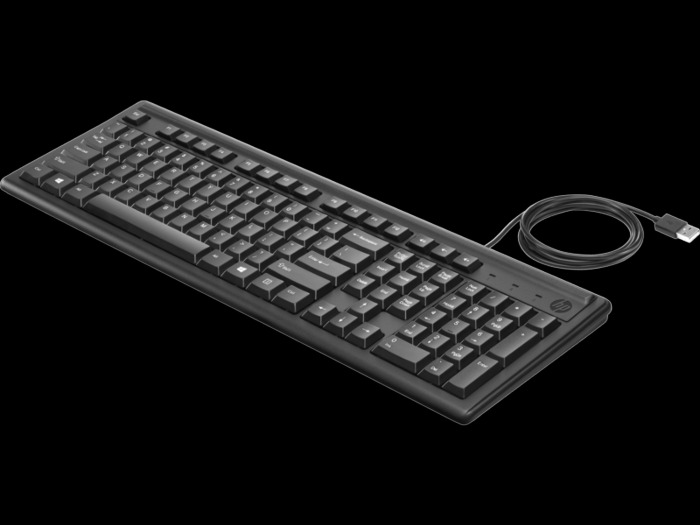keyboard: (1, 92, 615, 427)
